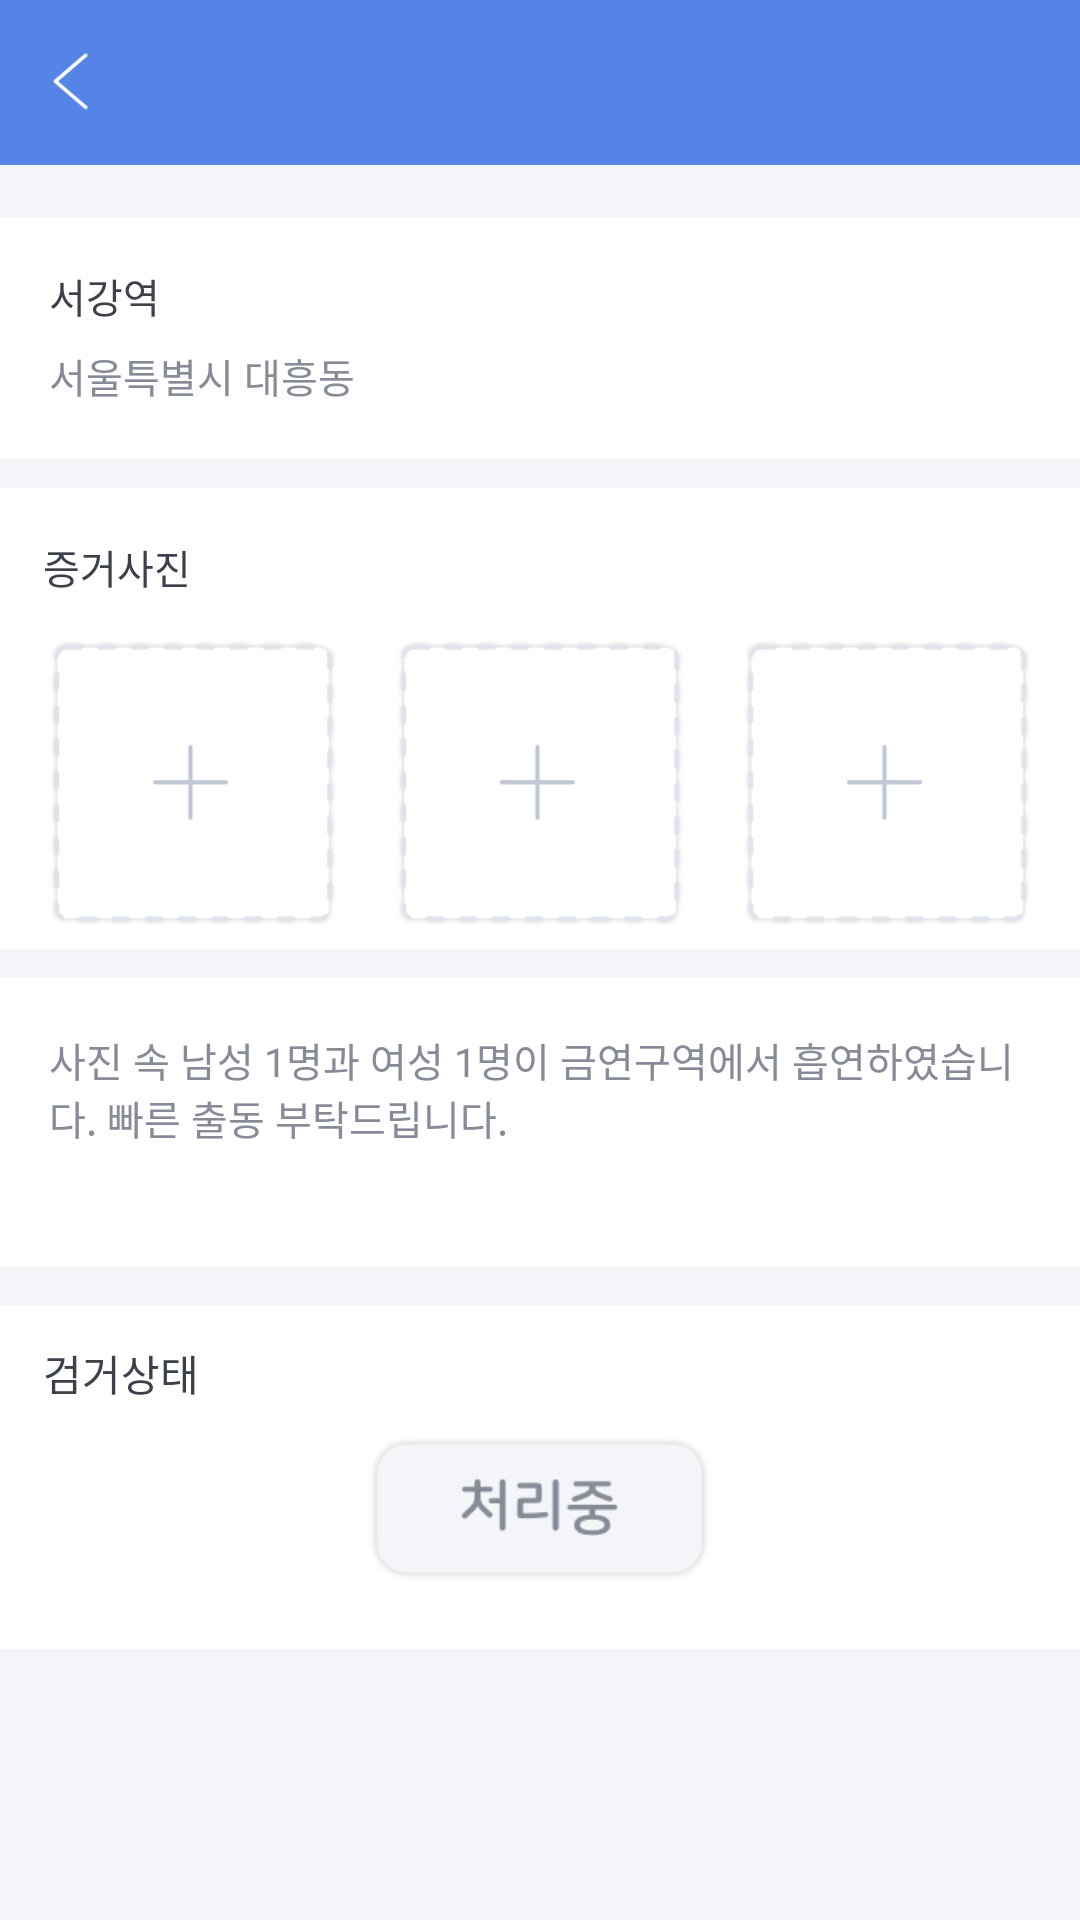

Screen size 1080*1920. Icon name, then its center in pixels as point (x, y):
back: point (70, 81)
